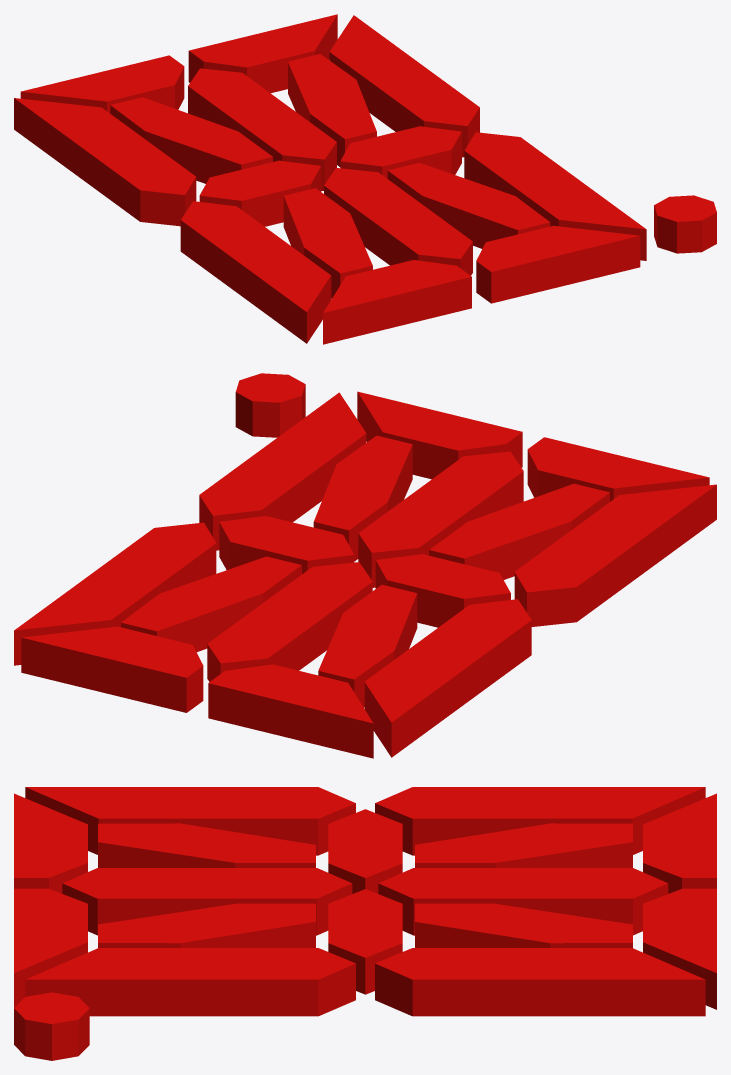
The model's file is digit_seg_16.glb.
3 views of the same model, one above another, from view 1: azimuth 30°, elevation 25°; view 2: azimuth 150°, elevation 25°; view 3: azimuth 270°, elevation 25° (orthographic). The views are drawn at different scales.
Visible parts, largest first — view 1: LT, LD, RT, DR, RD, DL, 2, 8, 7, 3, TR, 9 (+5 smaller); view 2: LD, LT, RD, TR, RT, TL, 8, 2, 1, 9, DR, 3 (+5 smaller); view 3: RT, RD, LT, LD, 8, 2, 7, 1, 9, 3, TR, DR (+5 smaller).
Part boxes in pixels (<box>): LT: <box>14,98,196,226</box>; LD: <box>180,201,331,343</box>; RT: <box>329,15,479,157</box>; DR: <box>476,225,640,303</box>; RD: <box>464,132,646,260</box>; DL: <box>323,260,471,344</box>; 2: <box>324,168,472,275</box>; 8: <box>188,68,336,190</box>; 7: <box>110,97,272,183</box>; 3: <box>387,162,550,248</box>; TR: <box>188,14,337,93</box>; 9: <box>288,54,376,166</box>; LD: <box>514,484,716,626</box>; LT: <box>364,599,531,757</box>; RD: <box>199,392,366,550</box>; TR: <box>21,626,203,712</box>; RT: <box>14,522,216,665</box>; TL: <box>208,664,373,758</box>; 8: <box>207,562,372,681</box>; 2: <box>358,451,523,587</box>; 1: <box>429,483,609,579</box>; 9: <box>121,556,301,651</box>; DR: <box>357,391,522,479</box>; 3: <box>313,435,412,561</box>; RT: <box>375,948,705,1016</box>; RD: <box>25,948,355,1016</box>; LT: <box>375,787,705,855</box>; LD: <box>25,787,355,855</box>; 8: <box>378,868,668,935</box>; 2: <box>62,868,352,935</box>; 7: <box>415,823,632,867</box>; 1: <box>98,823,315,867</box>; 9: <box>415,903,632,947</box>; 3: <box>98,903,315,947</box>; TR: <box>643,888,716,1009</box>; DR: <box>14,888,87,1007</box>.
Size of the model in its own units: 1.56 by 0.1129 by 1.96.
